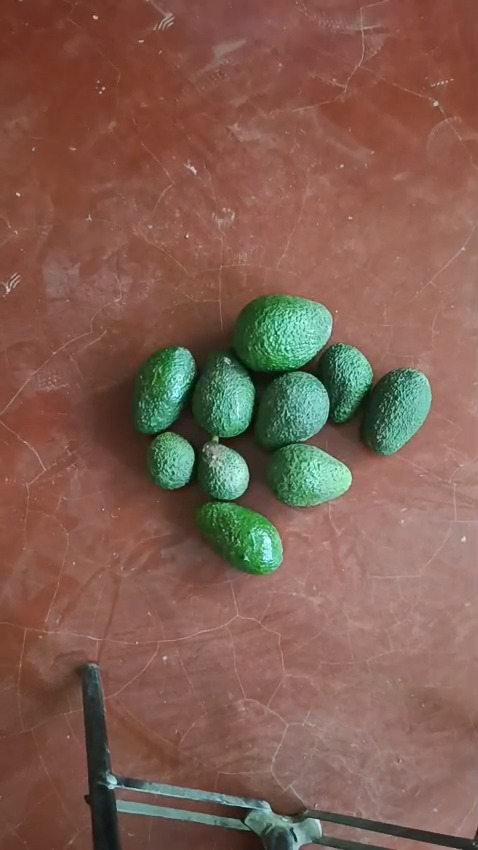Primera: (231, 293, 332, 372)
Segunda: (193, 501, 282, 574), (360, 367, 431, 453), (254, 370, 329, 449), (132, 345, 196, 434), (192, 352, 257, 439), (265, 442, 351, 506)
Tercera: (316, 342, 373, 423), (196, 438, 250, 500), (145, 430, 196, 490)
